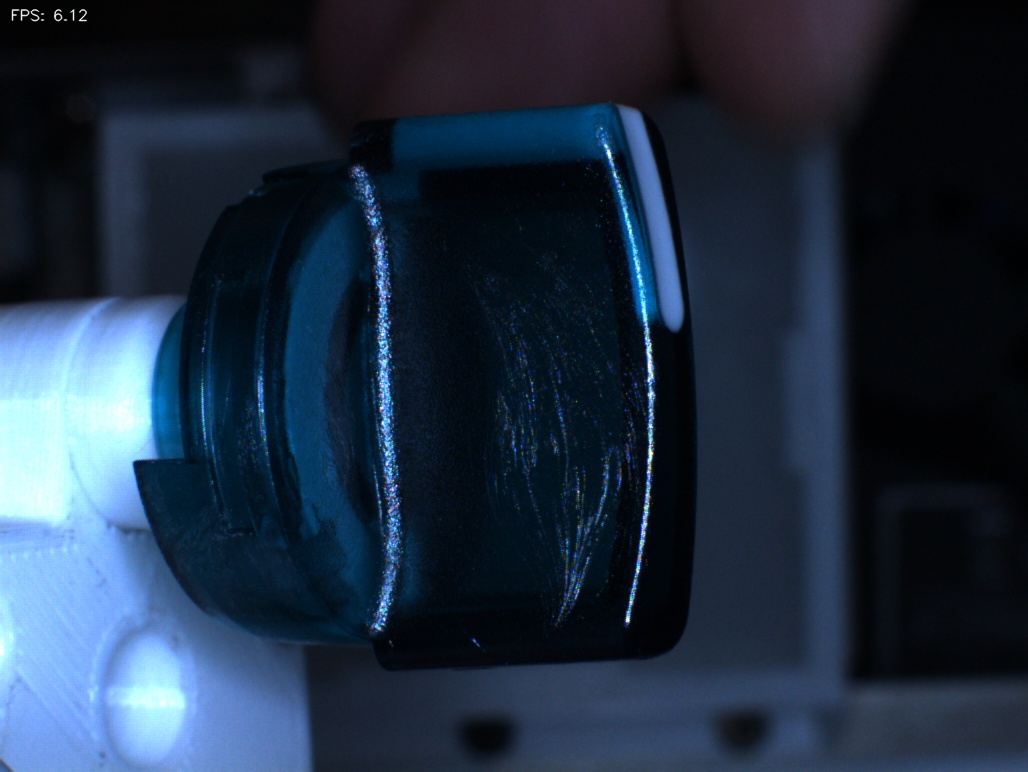Givrage: (470, 255, 640, 638), (291, 322, 365, 488)
